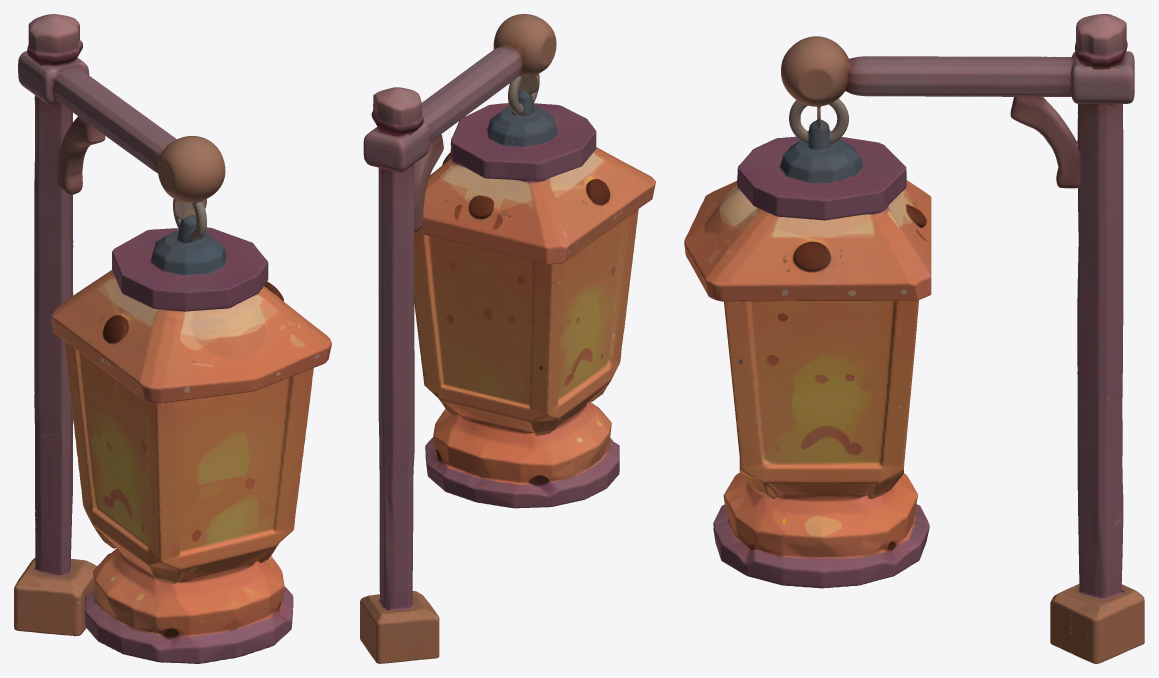
The model's file is lantern.glb.
3 renders of one model, left to right at view 1: azimuth 30°, elevation 25°; view 2: azimuth 150°, elevation 25°; view 3: azimuth 270°, elevation 25°, orthographic. The views are drawn at different scales.
Parts seen in each view (by area): view 1: tripo_node_d68aef5a-7f5b-4d61-b8cf-8b924c1cb793; view 2: tripo_node_d68aef5a-7f5b-4d61-b8cf-8b924c1cb793; view 3: tripo_node_d68aef5a-7f5b-4d61-b8cf-8b924c1cb793.
Boxes of the visible parts, x1=… form: tripo_node_d68aef5a-7f5b-4d61-b8cf-8b924c1cb793: x1=14, y1=14, x2=331, y2=663; tripo_node_d68aef5a-7f5b-4d61-b8cf-8b924c1cb793: x1=360, y1=14, x2=655, y2=663; tripo_node_d68aef5a-7f5b-4d61-b8cf-8b924c1cb793: x1=684, y1=14, x2=1144, y2=663.
Bounding box in the file's own units: 0.3284 × 1 × 0.6656.
1 material, 1 textured.
